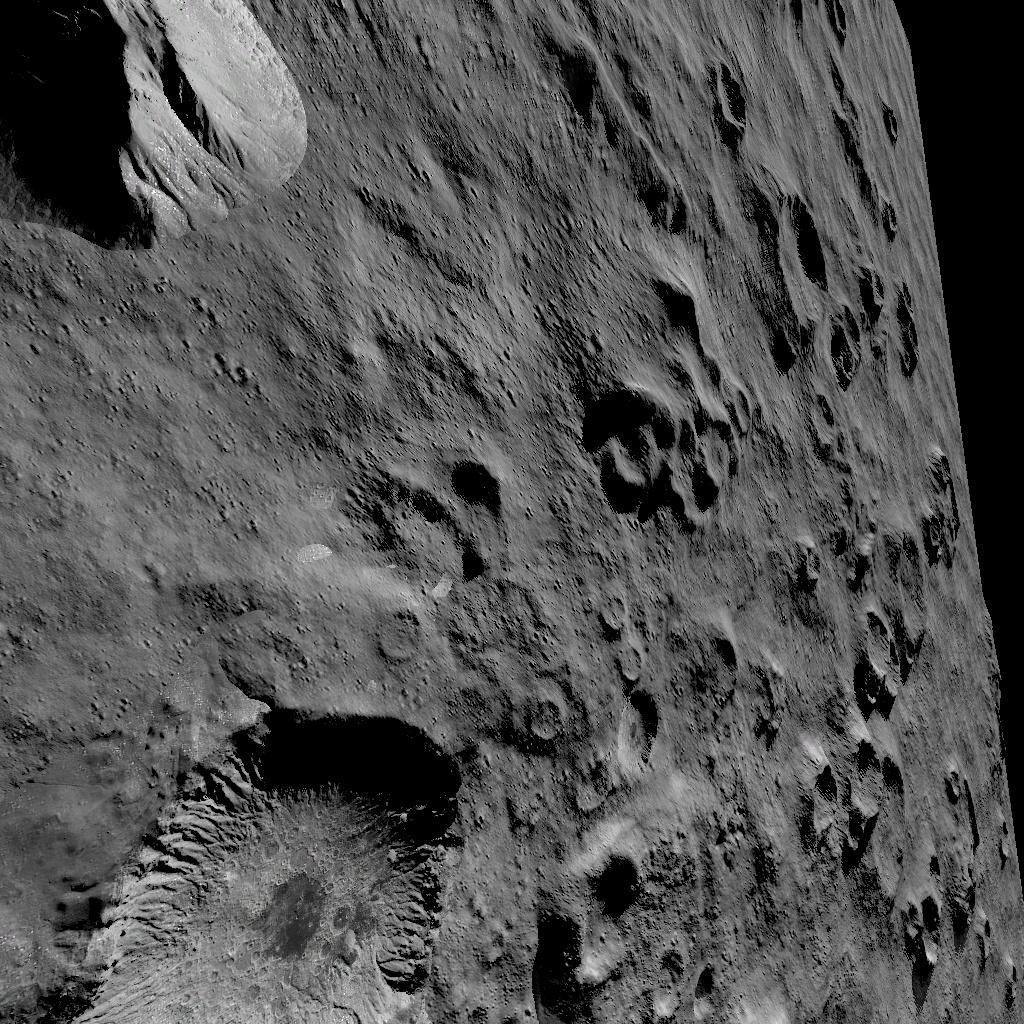Boulders: (0, 0, 306, 251)
Crater: (23, 696, 467, 1018), (563, 384, 757, 532), (353, 454, 506, 585), (529, 844, 637, 1004), (583, 590, 663, 794), (781, 732, 901, 858), (888, 877, 1008, 999), (747, 186, 815, 374), (828, 260, 924, 392), (835, 604, 922, 714), (645, 940, 727, 1024), (907, 446, 961, 572), (702, 56, 757, 146), (370, 606, 428, 667), (511, 692, 560, 752), (868, 96, 910, 160), (777, 540, 818, 600), (795, 398, 836, 456), (816, 0, 856, 50), (936, 760, 972, 808), (872, 202, 904, 248)
Plan surface: (3, 258, 343, 686), (351, 0, 556, 438)
